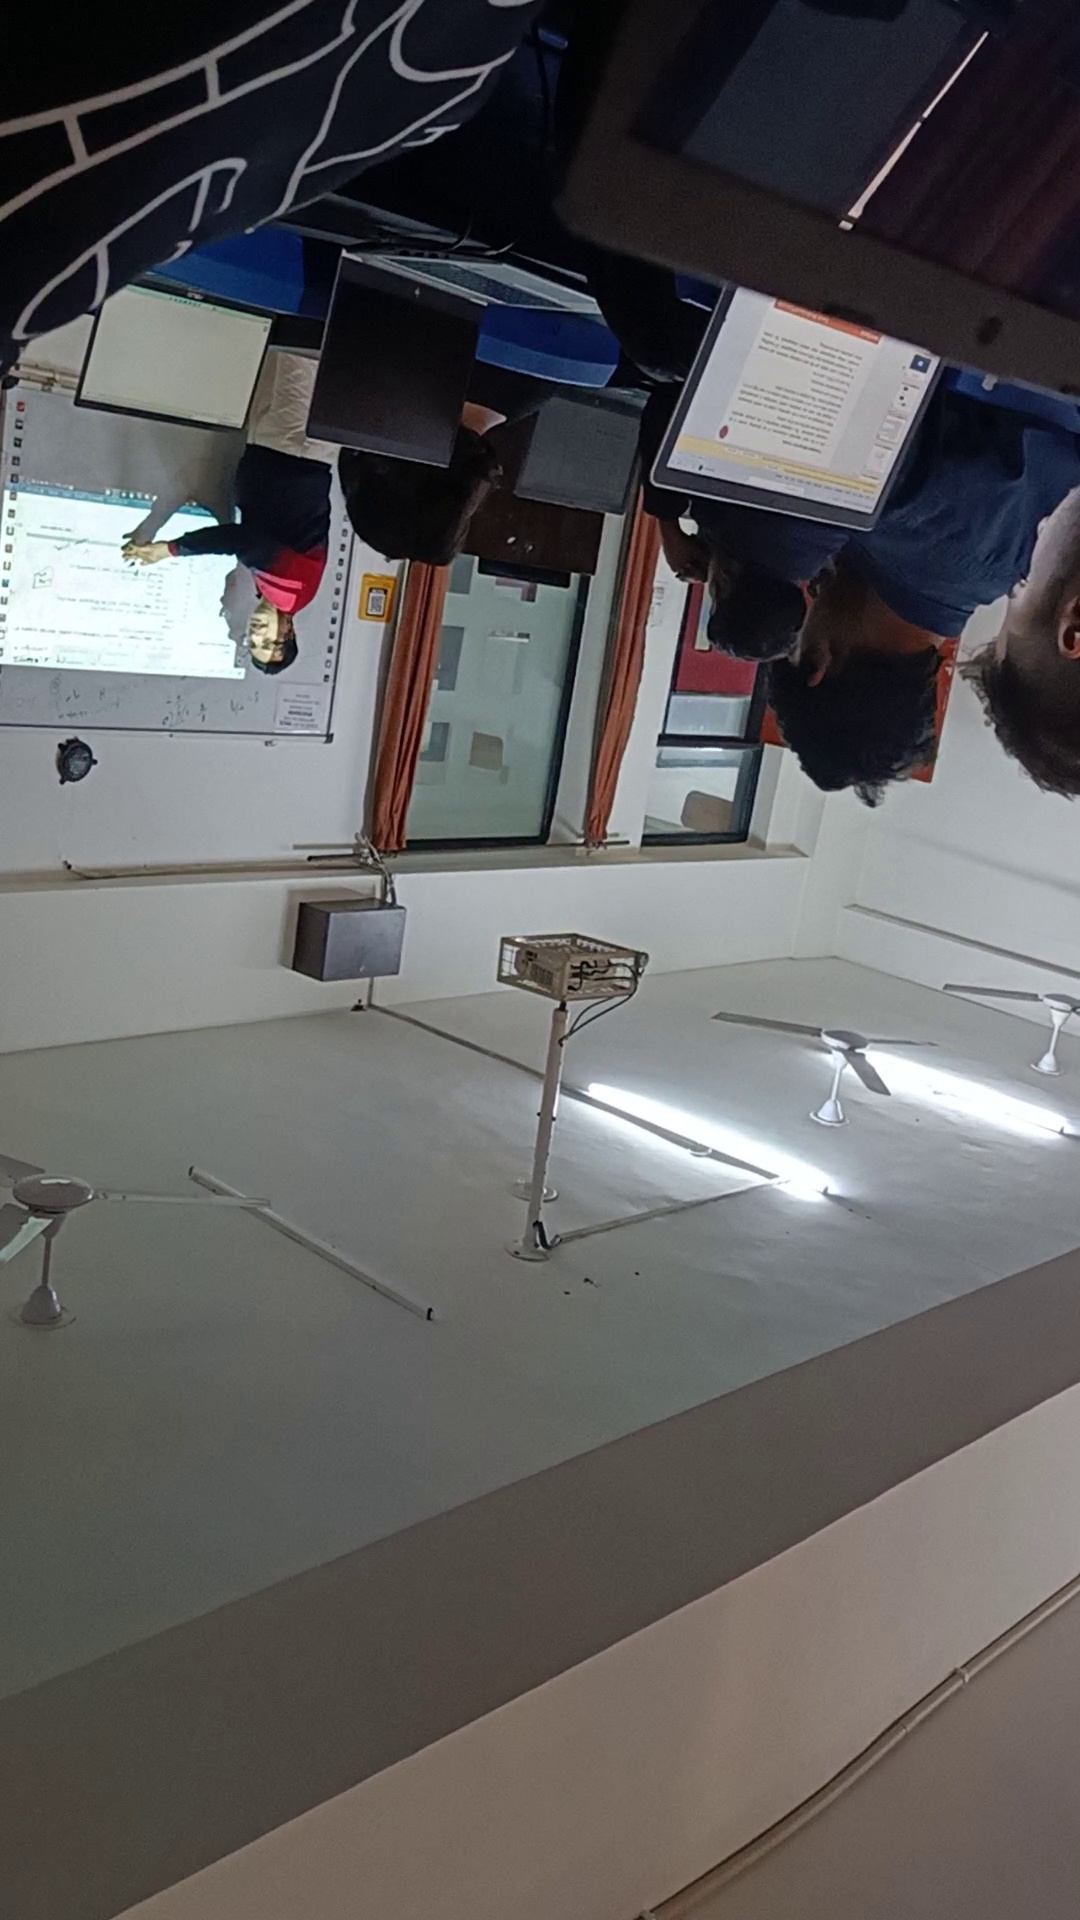fan: (1, 1130, 227, 1346), (713, 982, 920, 1139)
projector: (492, 927, 666, 1307)
tubelight: (175, 1133, 440, 1349)
